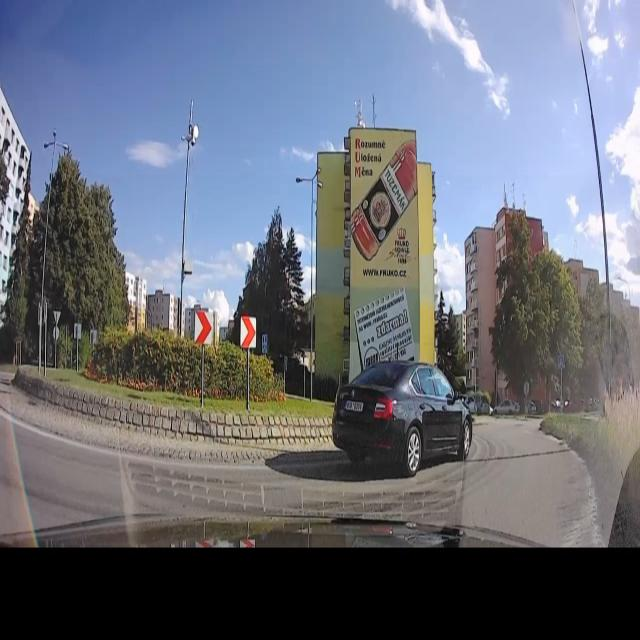Pedestrian crosswalk: (557, 353, 566, 370)
